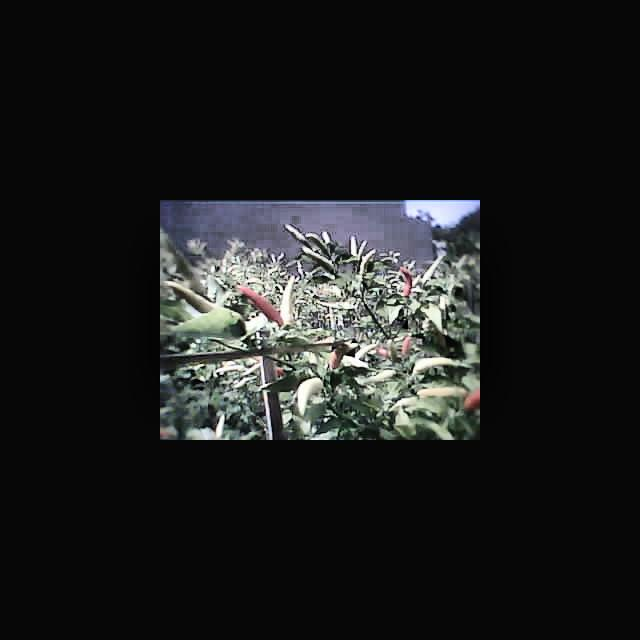Cabai: (234, 283, 280, 327), (394, 265, 421, 300)
